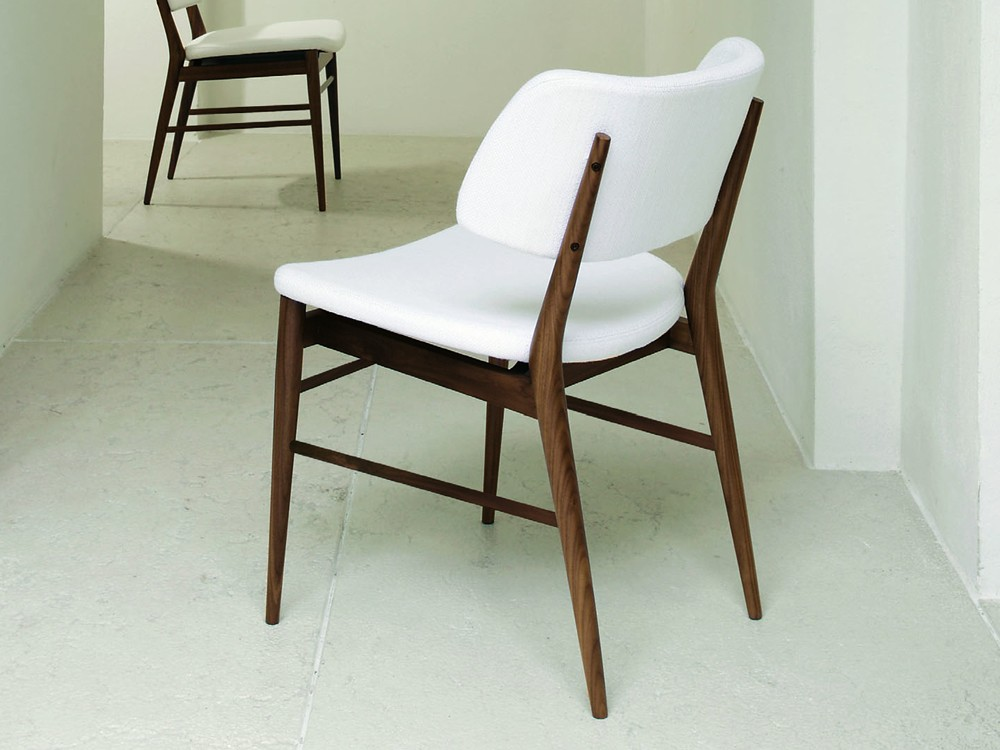chair: (237, 20, 804, 736), (137, 1, 356, 206)
